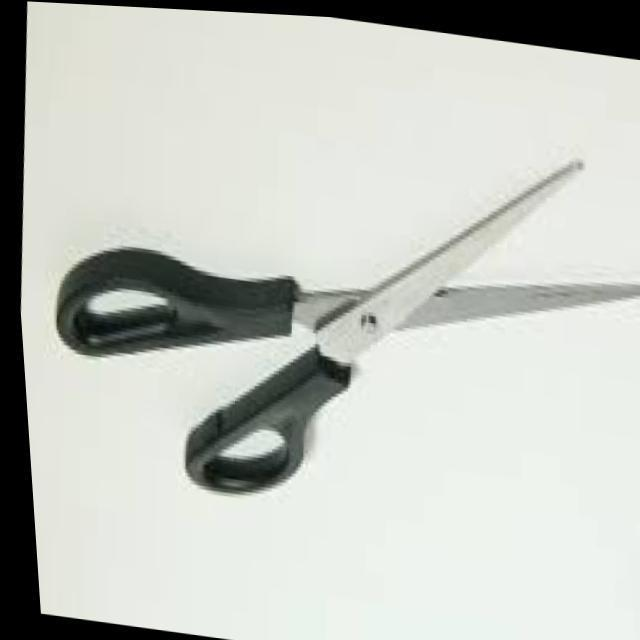tesoura: (56, 161, 639, 493)
